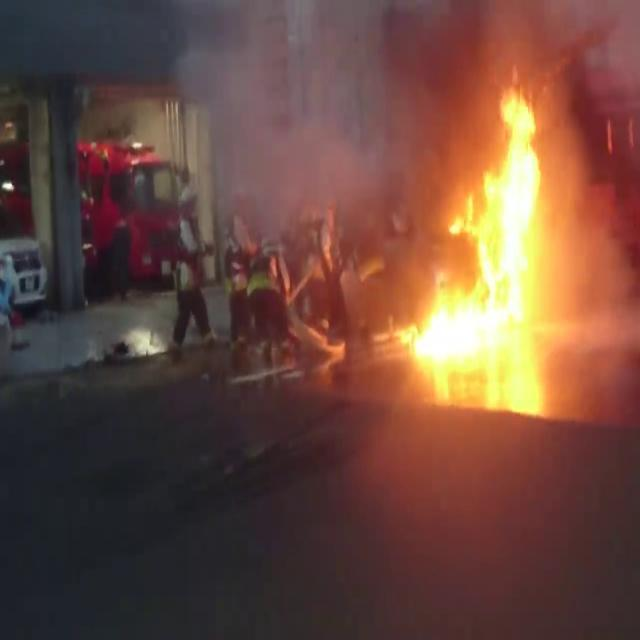Fire: (448, 69, 542, 327), (413, 283, 509, 361)
Smoke: (184, 0, 473, 207), (549, 88, 640, 361), (473, 0, 639, 84)
